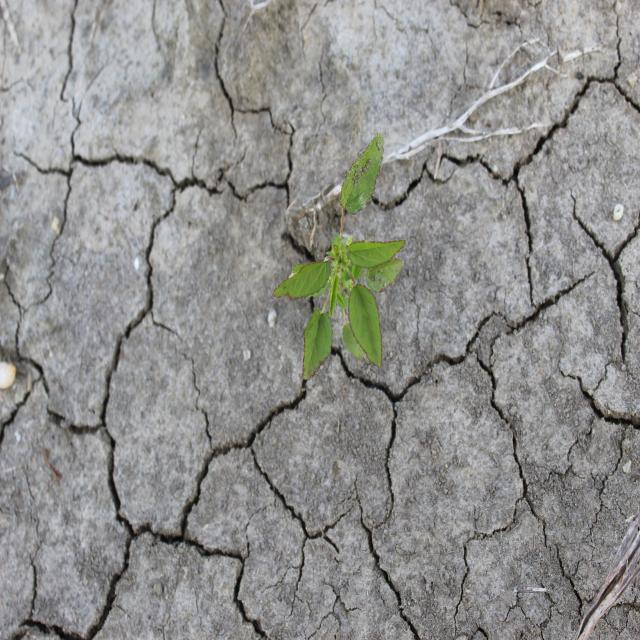PricklySida: (270, 131, 408, 383)
